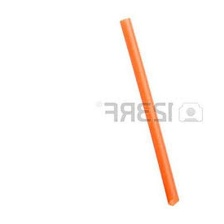drinking_straw: (114, 13, 185, 209)
